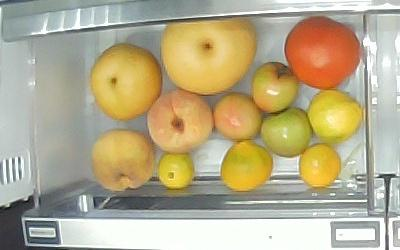peach: (147, 90, 214, 153), (91, 130, 154, 192)
pear: (160, 18, 256, 96), (90, 43, 162, 121)
tangerine: (309, 88, 361, 140), (221, 141, 273, 192), (299, 145, 342, 188), (157, 153, 194, 189)
tomato: (284, 15, 362, 90), (260, 108, 313, 158), (252, 62, 298, 115), (213, 93, 262, 141)
